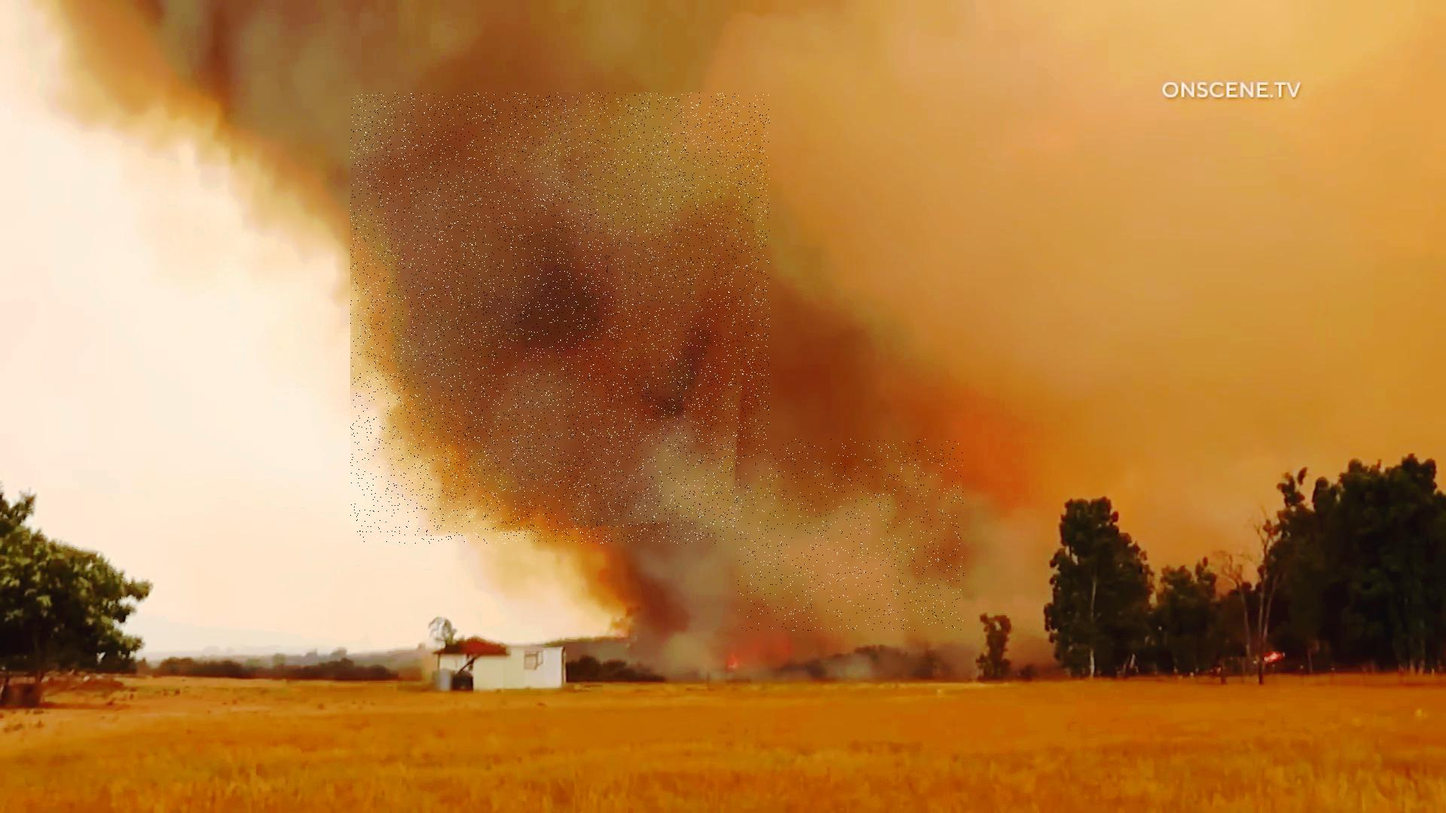smoke: (351, 93, 770, 544), (739, 439, 965, 631)
